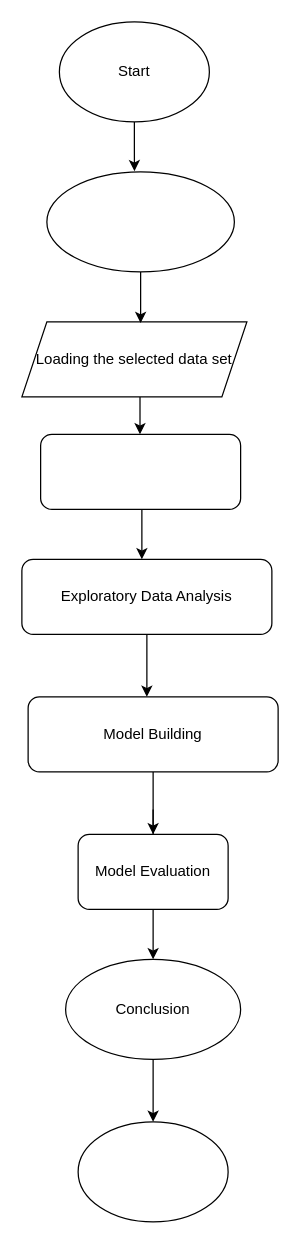
Image size: 300x1244. Some labels were removed from this diagram. The box of each missing label's shape, as (x1, y1, x2, y2) in pixels:
Analyzing the problem: (46, 171, 234, 272)
Data Cleaning: (39, 433, 241, 509)
End: (77, 1121, 228, 1222)
